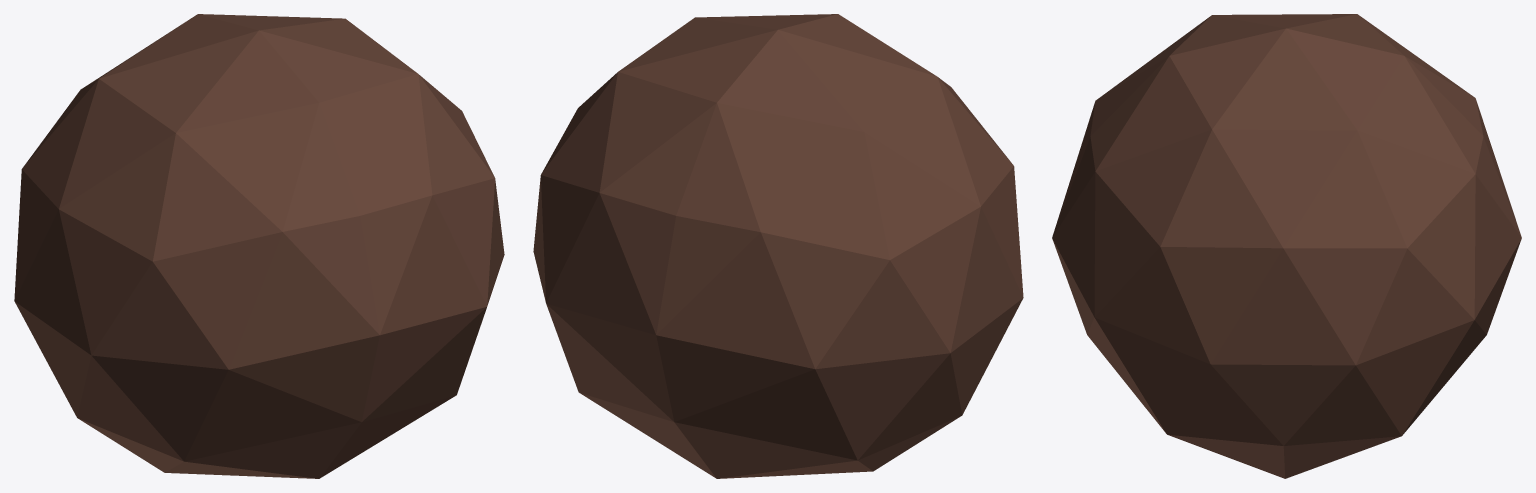
The model's file is coconut-7ad33f6561.glb.
3 views of the same model, side by side, from view 1: azimuth 30°, elevation 25°; view 2: azimuth 150°, elevation 25°; view 3: azimuth 270°, elevation 25° (orthographic). The views are drawn at different scales.
Parts seen in each view (by area): view 1: Coconut.obj; view 2: Coconut.obj; view 3: Coconut.obj.
Boxes of the visible parts, box(x1,y1,x2,y2) form: Coconut.obj: box(14, 14, 504, 478); Coconut.obj: box(533, 14, 1023, 478); Coconut.obj: box(1052, 14, 1521, 478).
Size of the model in its own units: 0.7777 by 0.7769 by 0.7834.
